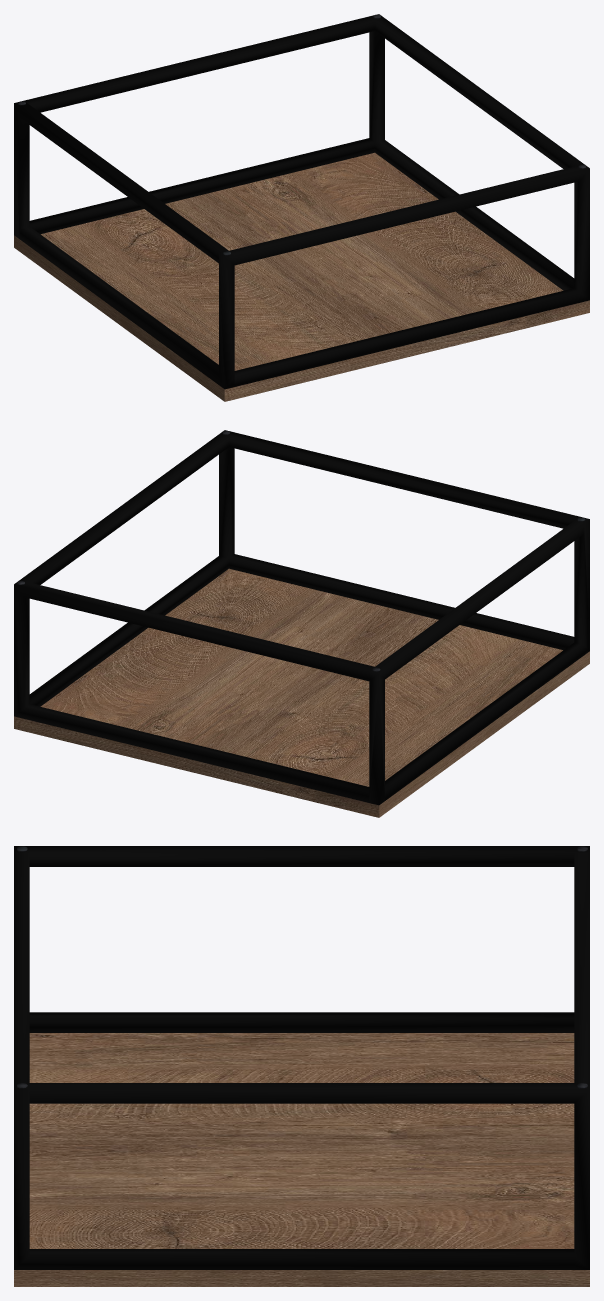
3 views of the same model, one above another, from view 1: azimuth 30°, elevation 25°; view 2: azimuth 150°, elevation 25°; view 3: azimuth 270°, elevation 25° (orthographic). The views are drawn at different scales.
Parts seen in each view (by area): view 1: group_0, Composant_13; view 2: group_0, Composant_13; view 3: group_0, Composant_13.
Part boxes in pixels (x1=…): group_0: x1=14, y1=152, x2=589, y2=401; Composant_13: x1=14, y1=14, x2=589, y2=389; group_0: x1=14, y1=568, x2=589, y2=817; Composant_13: x1=14, y1=430, x2=589, y2=805; group_0: x1=14, y1=1033, x2=589, y2=1286; Composant_13: x1=14, y1=846, x2=589, y2=1269.
Size of the model in its own units: 43.31 by 43.31 by 16.48.
